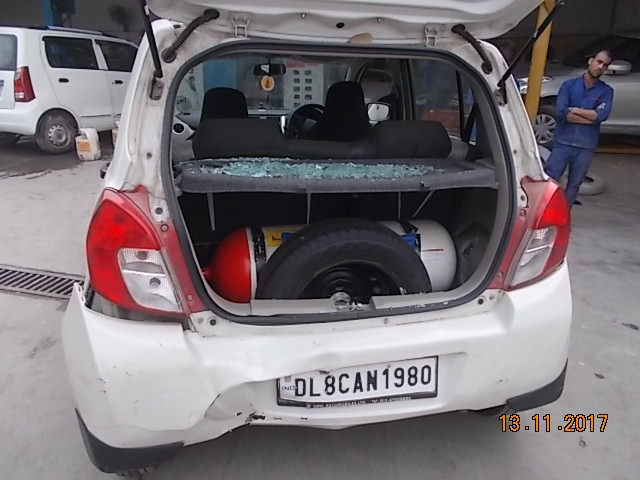Scratch_or_spot: (235, 404, 271, 426)
